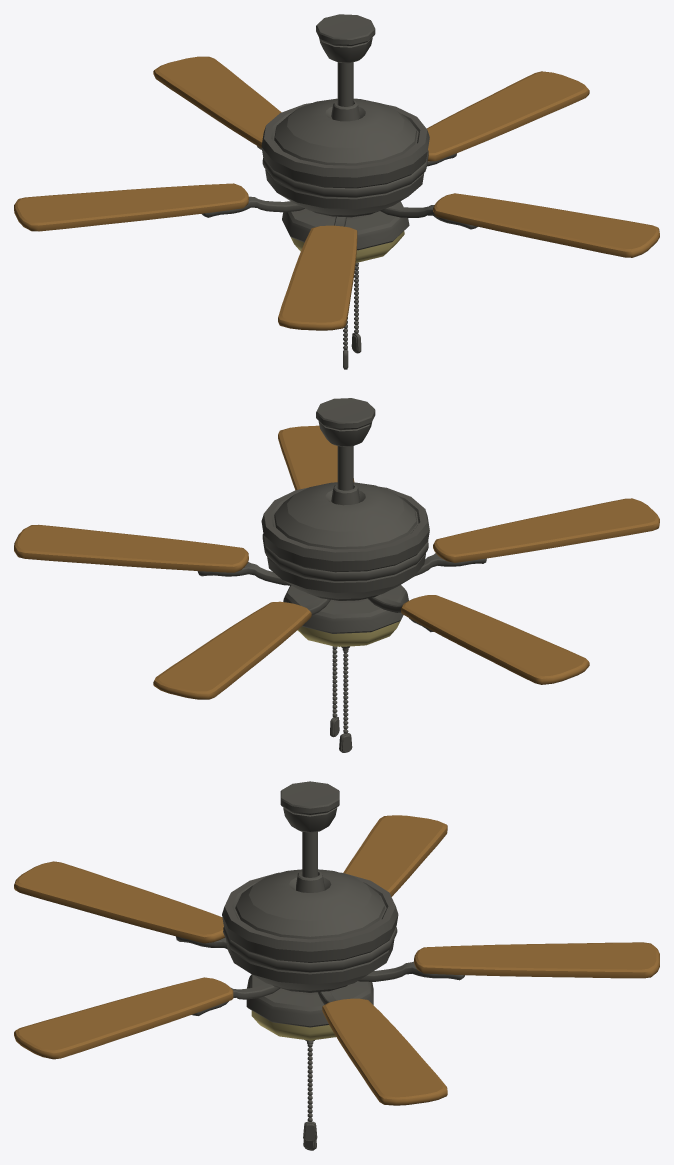
Rendered from CeilingFan.fbx.
3 views of the same model, one above another, from view 1: azimuth 30°, elevation 25°; view 2: azimuth 150°, elevation 25°; view 3: azimuth 270°, elevation 25° (orthographic). The views are drawn at different scales.
Parts seen in each view (by area): view 1: CeilingFan; view 2: CeilingFan; view 3: CeilingFan.
Boxes of the visible parts, <box> form: CeilingFan: <box>14,14,659,369</box>; CeilingFan: <box>14,398,659,752</box>; CeilingFan: <box>14,781,659,1150</box>.
Size of the model in its own units: 2.7 by 1.57 by 2.59.
